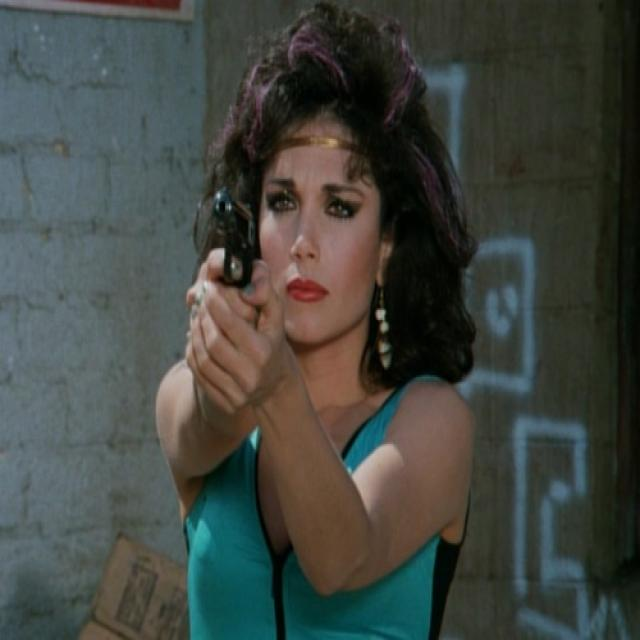weapons: (188, 156, 274, 337)
